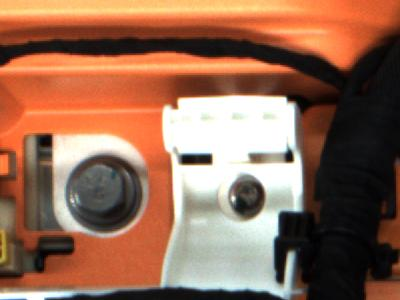nut_b: (61, 145, 150, 229)
